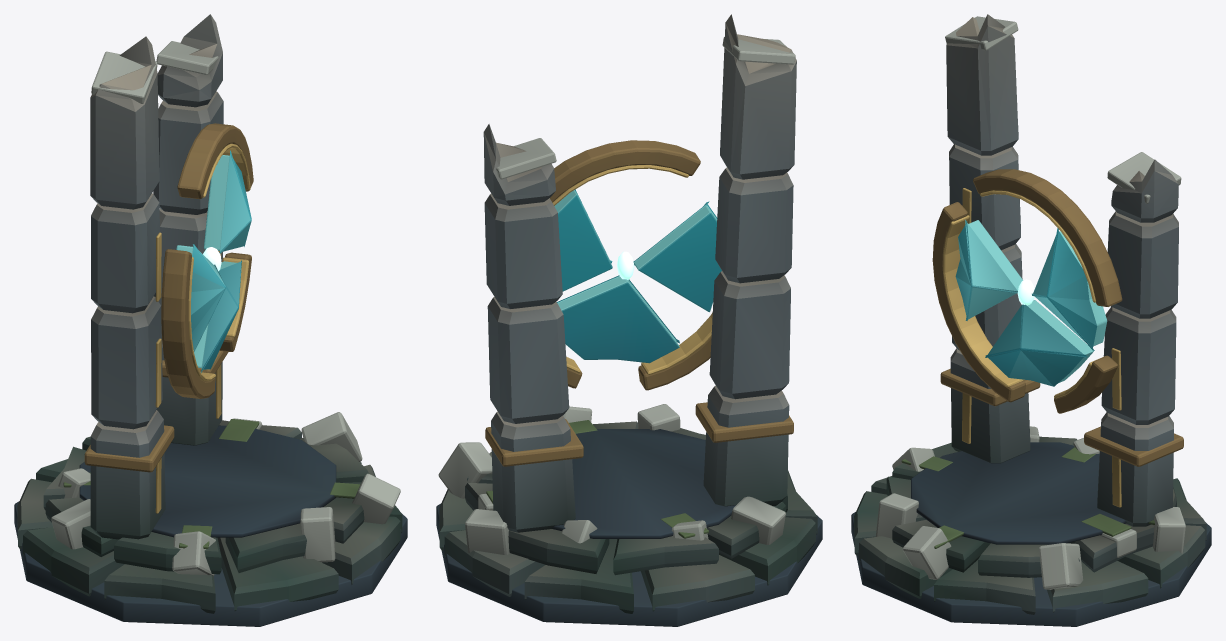
File: skyreach-fallen-beacon-v1.glb
3 views of the same model, side by side, from view 1: azimuth 30°, elevation 25°; view 2: azimuth 150°, elevation 25°; view 3: azimuth 270°, elevation 25° (orthographic). The views are drawn at different scales.
Visible parts, largest first — view 1: GB_BEACON_Stone, GB_BEACON_Recess, GB_BEACON_Fracture, GB_BEACON_Bronze, GB_BEACON_Lens, GB_BEACON_Inlay, GB_BEACON_Moss; view 2: GB_BEACON_Stone, GB_BEACON_Recess, GB_BEACON_Lens, GB_BEACON_Fracture, GB_BEACON_Bronze, GB_BEACON_Inlay, GB_BEACON_Moss; view 3: GB_BEACON_Stone, GB_BEACON_Recess, GB_BEACON_Lens, GB_BEACON_Bronze, GB_BEACON_Fracture, GB_BEACON_Inlay, GB_BEACON_Moss.
Boxes of the visible parts, x1,y1,x2,y2 form: GB_BEACON_Stone: (17,14,402,613); GB_BEACON_Recess: (14,425,407,626); GB_BEACON_Fracture: (51,41,400,575); GB_BEACON_Bronze: (84,123,253,472); GB_BEACON_Lens: (176,150,251,372); GB_BEACON_Inlay: (155,143,250,513); GB_BEACON_Moss: (63,419,360,548); GB_BEACON_Stone: (439,14,817,613); GB_BEACON_Recess: (436,429,822,626); GB_BEACON_Lens: (554,189,721,363); GB_BEACON_Fracture: (438,36,795,554); GB_BEACON_Bronze: (485,140,793,466); GB_BEACON_Inlay: (552,165,712,374); GB_BEACON_Moss: (486,420,708,538); GB_BEACON_Stone: (854,14,1206,614); GB_BEACON_Recess: (851,442,1211,626); GB_BEACON_Lens: (955,220,1107,386); GB_BEACON_Bronze: (932,169,1183,466); GB_BEACON_Fracture: (875,16,1185,589); GB_BEACON_Inlay: (943,188,1121,507); GB_BEACON_Moss: (901,447,1154,548).
Bounding box in the file's own units: 3.22 × 4.9 × 3.2.
